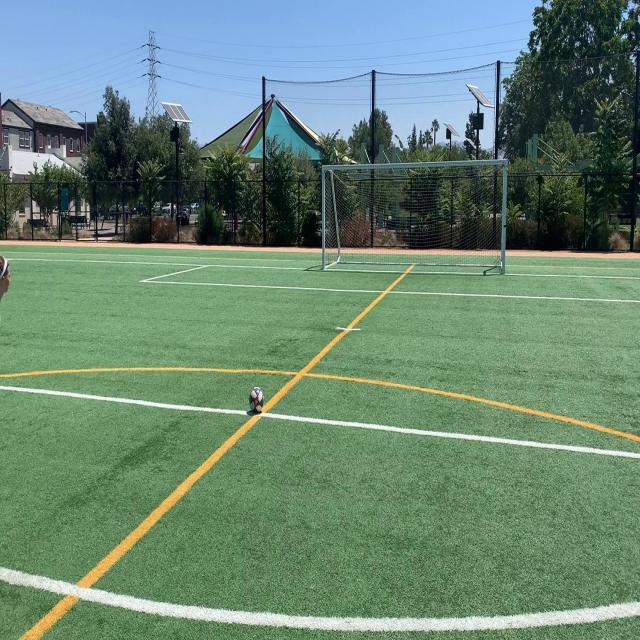ball: (248, 386, 265, 415)
